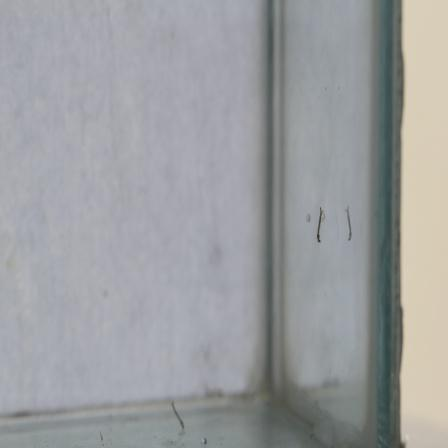Jentik-Nyamuk: (166, 399, 189, 433), (312, 203, 326, 246)
